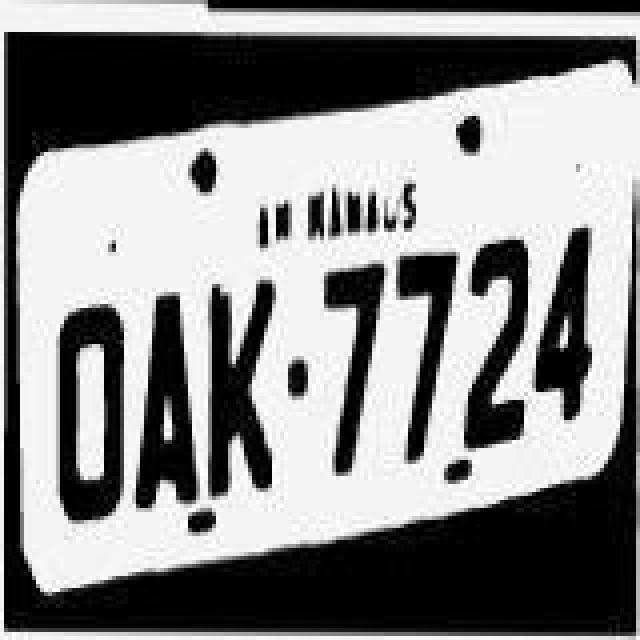2: (460, 230, 532, 454)
4: (536, 214, 600, 426)
7: (312, 254, 392, 478), (390, 242, 466, 466)
A: (128, 286, 200, 514)
K: (206, 274, 282, 498)
O: (46, 280, 130, 528)
